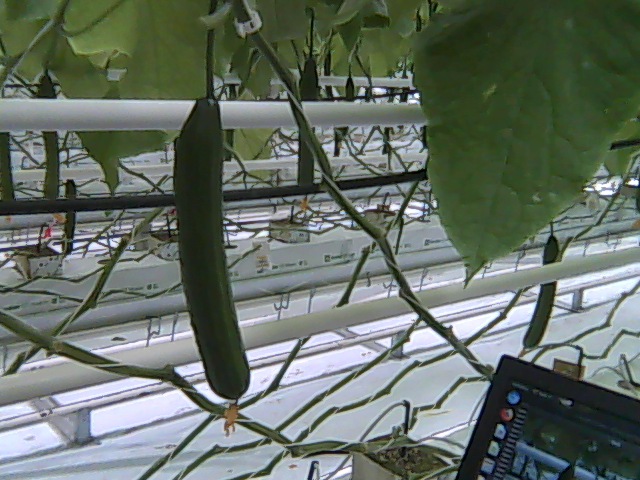concombre: (170, 82, 254, 437)
